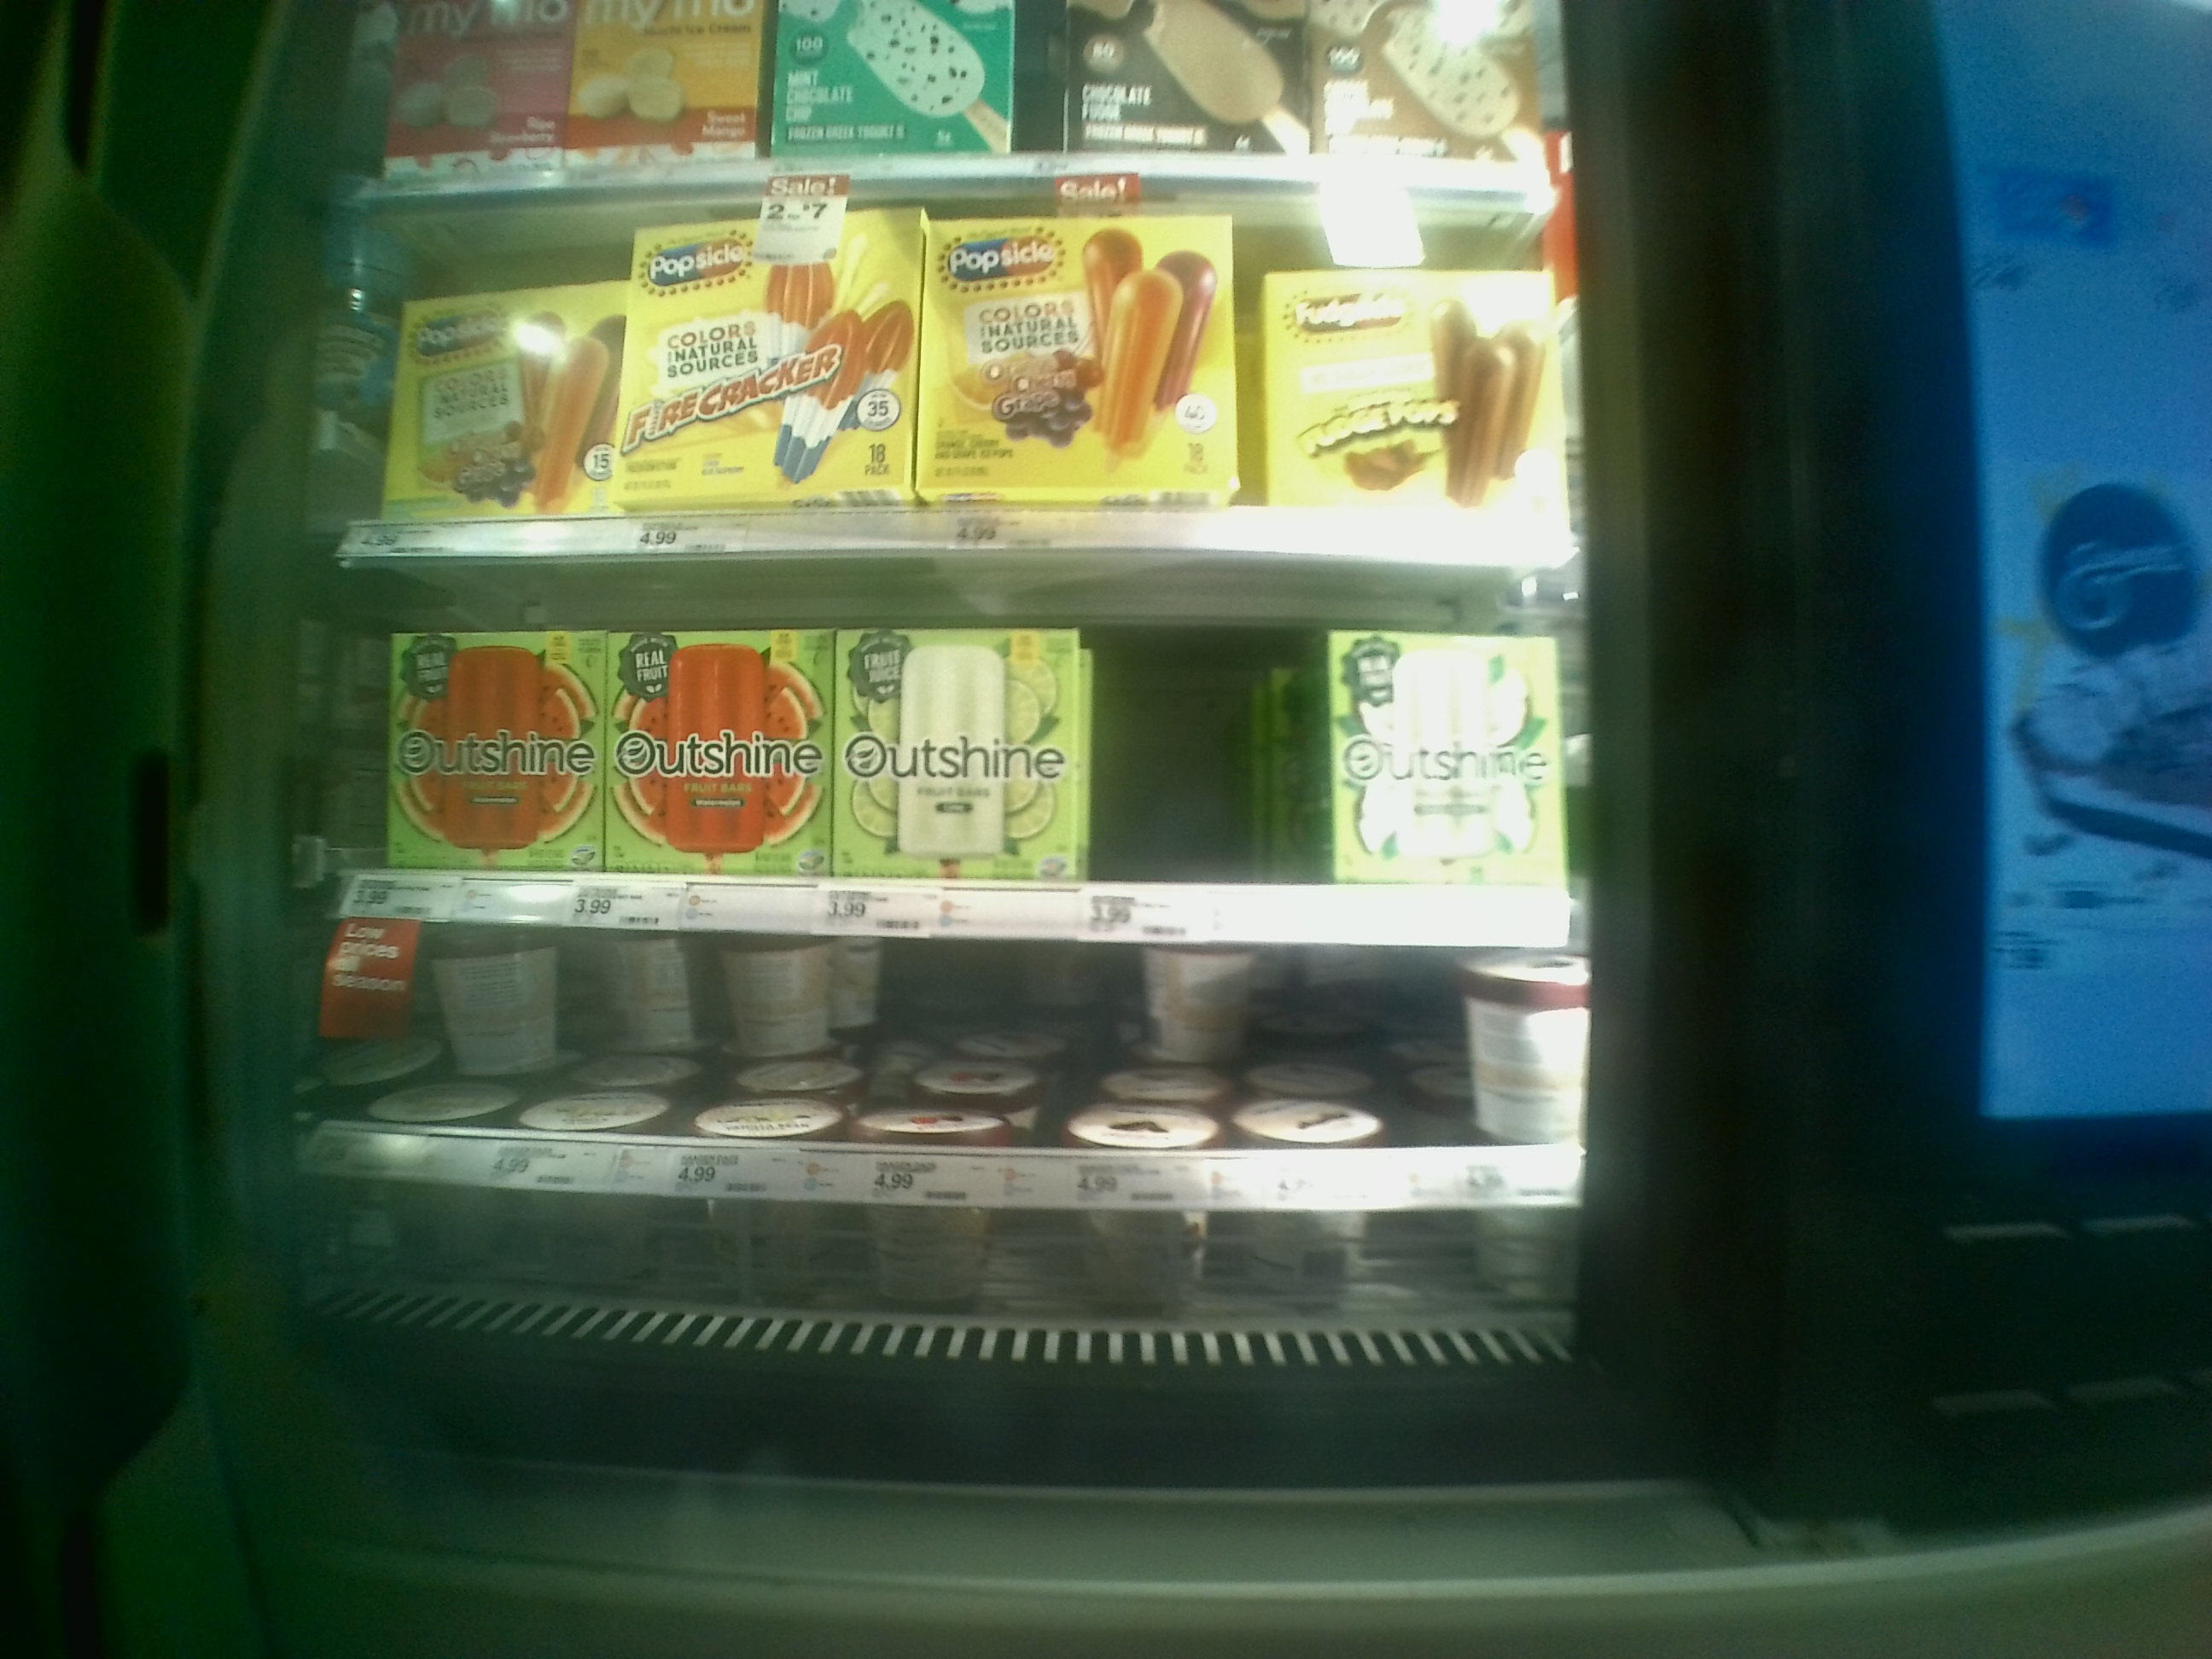ice-cream-shelf: (315, 563, 1569, 948), (320, 197, 1595, 563), (319, 917, 1581, 1274)
